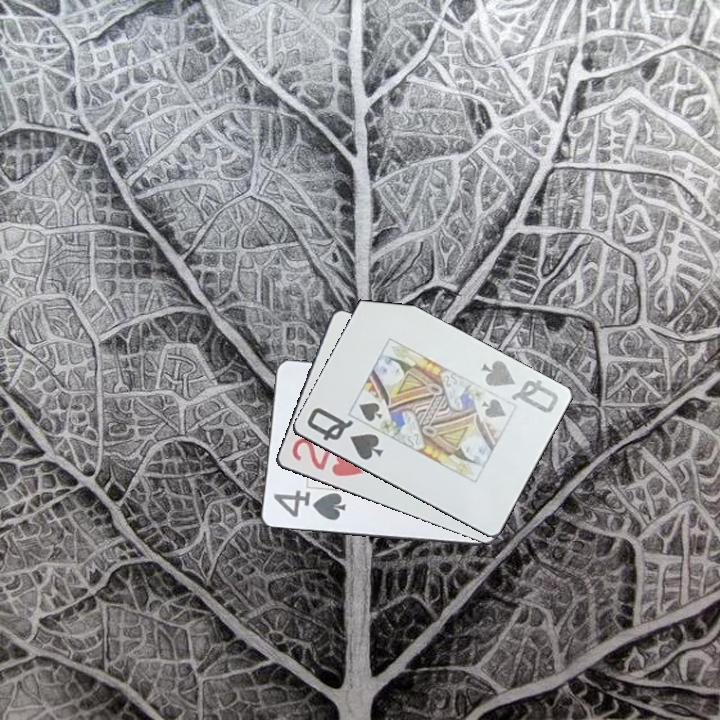2h: (288, 434, 366, 480)
4s: (269, 487, 348, 523)
Qs: (477, 356, 561, 416), (303, 404, 386, 463)
